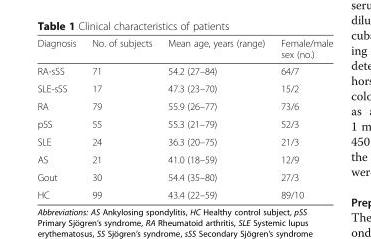table: (36, 36, 332, 200)
table column: (159, 36, 272, 200), (83, 36, 159, 200), (272, 36, 332, 200), (36, 36, 83, 200)
table column header: (36, 36, 332, 62)
table row: (36, 36, 332, 62), (36, 79, 332, 97), (36, 114, 332, 132), (36, 132, 332, 150), (36, 167, 332, 185), (36, 62, 332, 79), (36, 97, 332, 114), (36, 150, 332, 167), (36, 185, 332, 200)
